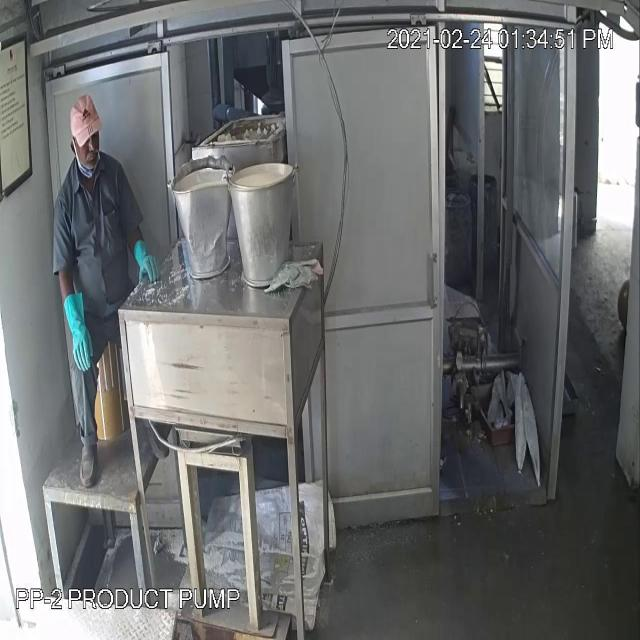no-helmet: (63, 95, 106, 151)
